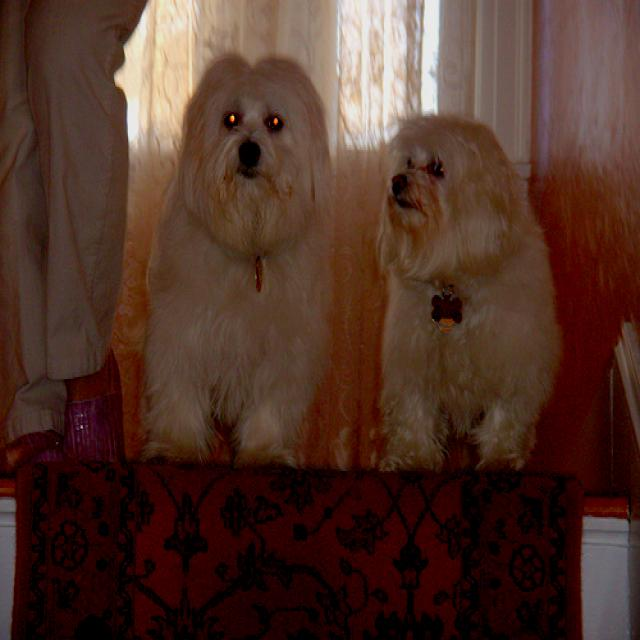Dog: (152, 38, 328, 496), (370, 100, 587, 462)
